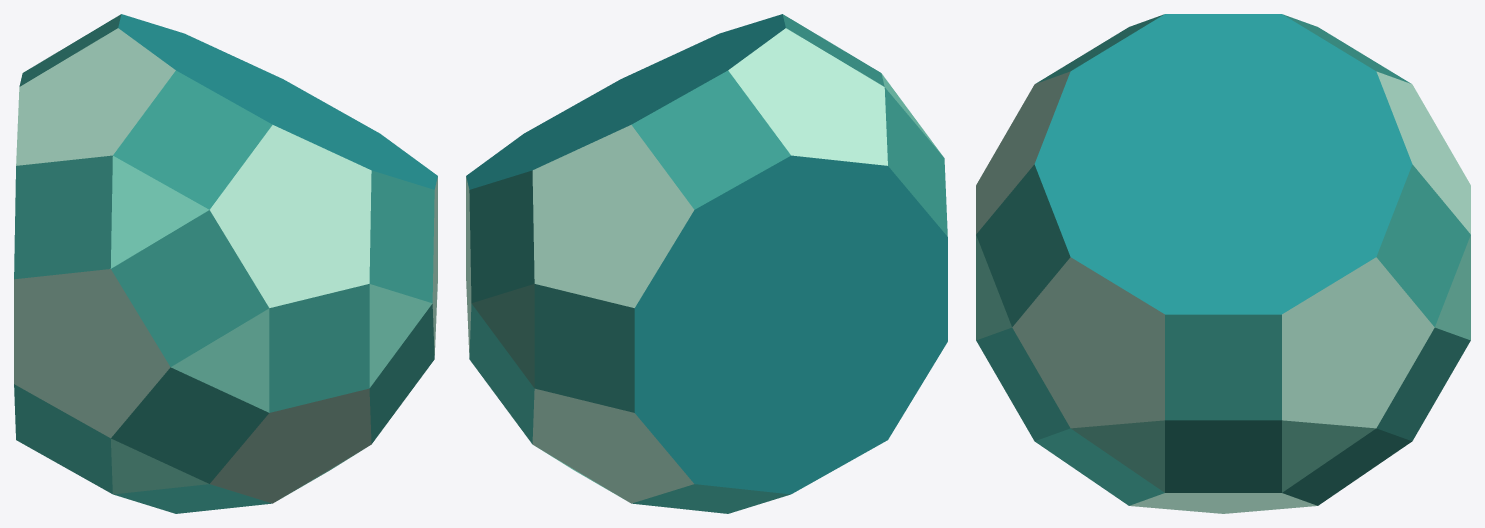
The model's file is J82.RombicosidodecaedroGiroideBidisminuido.gltf.
3 renders of one model, left to right at view 1: azimuth 30°, elevation 25°; view 2: azimuth 150°, elevation 25°; view 3: azimuth 270°, elevation 25°, orthographic.
Visible parts, largest first — view 1: J82.RombicosidodecaedroGiroideBidisminuido; view 2: J82.RombicosidodecaedroGiroideBidisminuido; view 3: J82.RombicosidodecaedroGiroideBidisminuido.
Boxes of the visible parts, <box> form: J82.RombicosidodecaedroGiroideBidisminuido: <box>14,14,437,513</box>; J82.RombicosidodecaedroGiroideBidisminuido: <box>466,14,947,513</box>; J82.RombicosidodecaedroGiroideBidisminuido: <box>976,14,1470,513</box>.
Size of the model in its own units: 18.97 by 19.35 by 18.97.
